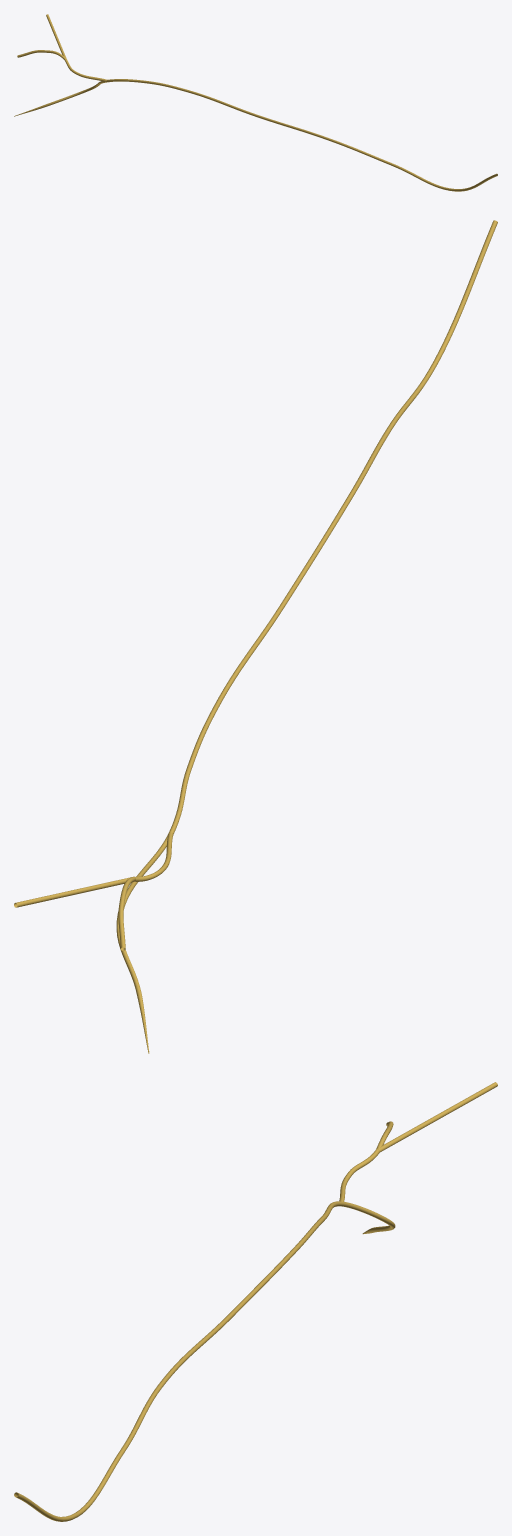
3 views of the same model, one above another, from view 1: azimuth 30°, elevation 25°; view 2: azimuth 150°, elevation 25°; view 3: azimuth 330°, elevation 25° (orthographic). The views are drawn at different scales.
Visible parts, largest first — view 1: 右侧桡神经浅支; view 2: 右侧桡神经浅支; view 3: 右侧桡神经浅支.
Part boxes in pixels (x1,y1,x2,y2): 右侧桡神经浅支: (14,14,497,191); 右侧桡神经浅支: (14,220,497,1053); 右侧桡神经浅支: (14,1082,497,1521).
Bounding box in the file's own units: 0.1013 × 0.0921 × 0.3956.
